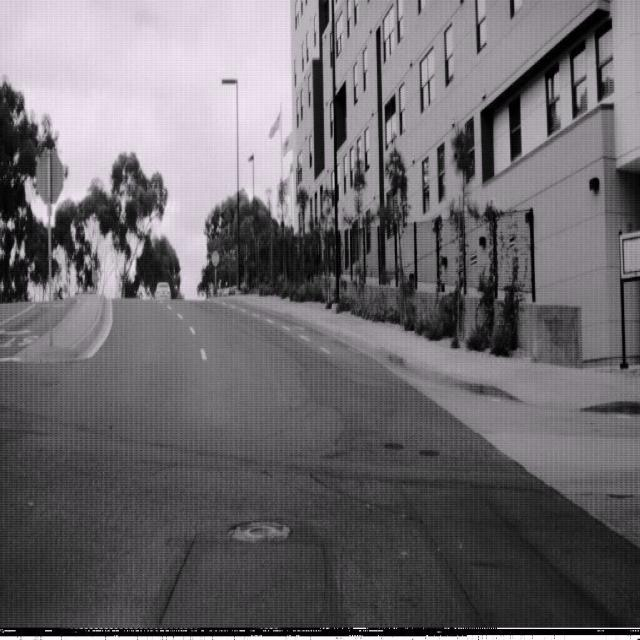stop_sign: (210, 250, 220, 266)
